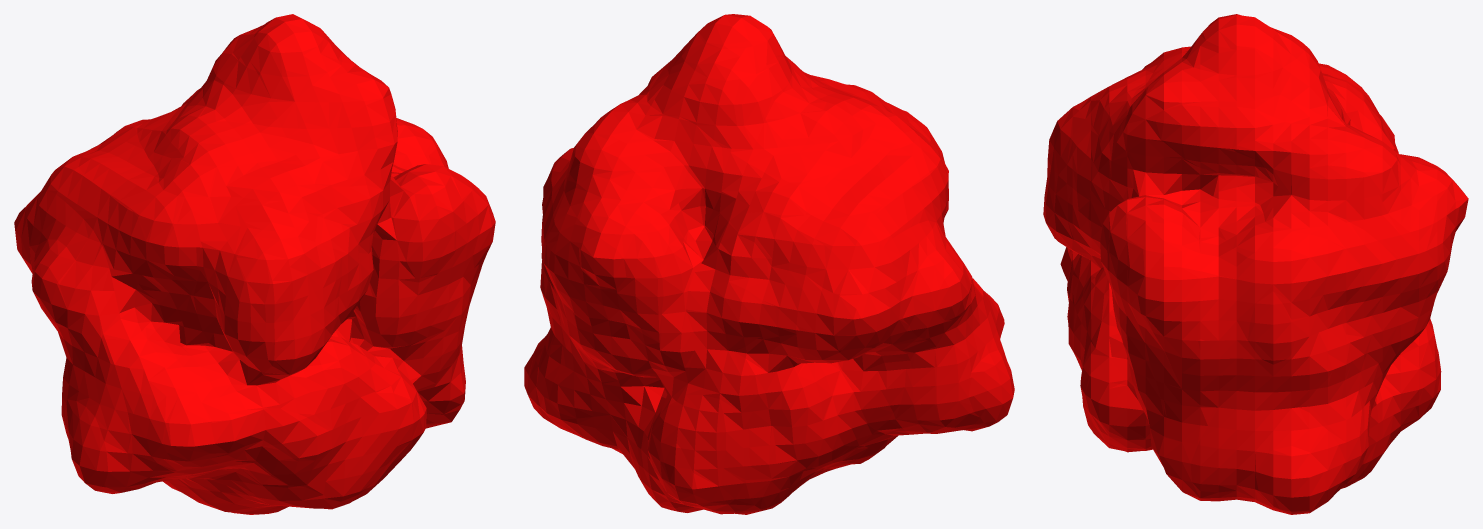
File: maa_coarse.dae
3 views of the same model, side by side, from view 1: azimuth 30°, elevation 25°; view 2: azimuth 150°, elevation 25°; view 3: azimuth 270°, elevation 25° (orthographic). The views are drawn at different scales.
Parts seen in each view (by area): view 1: maa; view 2: maa; view 3: maa.
Boxes of the visible parts, x1,y1,x2,y2 form: maa: (14,14,495,514); maa: (524,14,1014,514); maa: (1043,14,1468,514).
Bounding box in the file's own units: 66.65 × 70.1 × 57.49.
